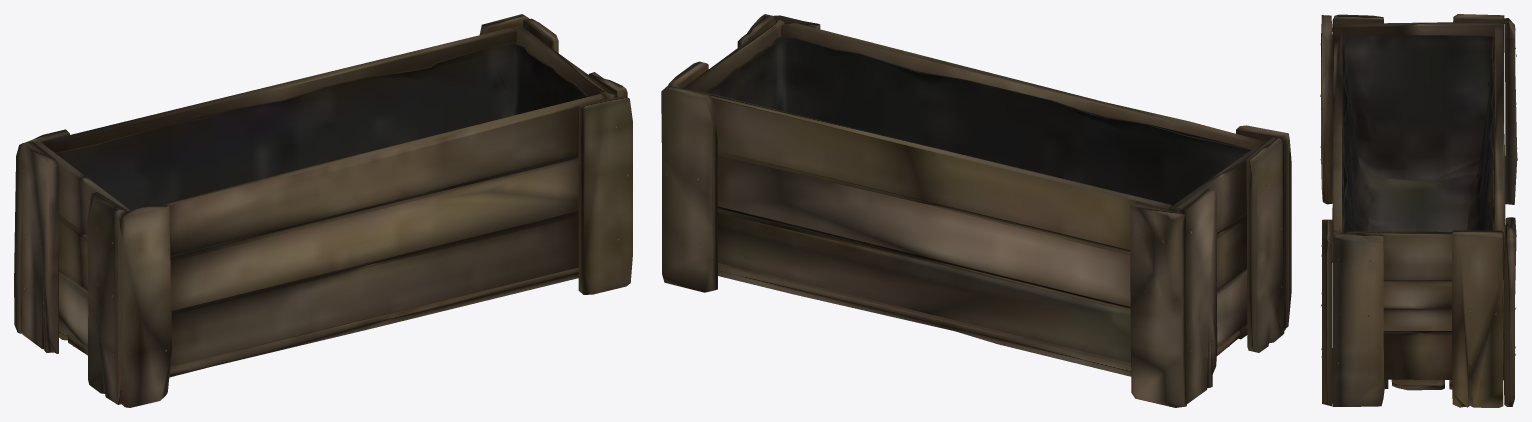
The model's file is jardiniere_bac_bois_lod1.glb.
The picture shows the model from 3 angles, left to right: view 1: azimuth 30°, elevation 25°; view 2: azimuth 150°, elevation 25°; view 3: azimuth 270°, elevation 25°; orthographic projection. The views are drawn at different scales.
Parts seen in each view (by area): view 1: planter_box_02; view 2: planter_box_02; view 3: planter_box_02.
Boxes of the visible parts, box(x1,y1,x2,y2) form: planter_box_02: box(14, 14, 632, 407); planter_box_02: box(661, 14, 1291, 407); planter_box_02: box(1320, 14, 1517, 407).
Bounding box in the file's own units: 1.25 × 0.4514 × 0.467.
1 material, 1 textured.
